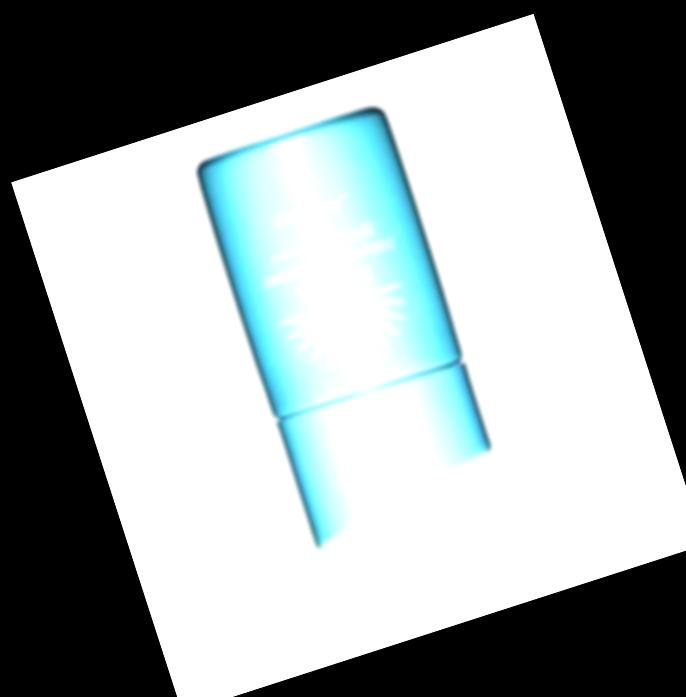cosmetic: (187, 101, 508, 555)
